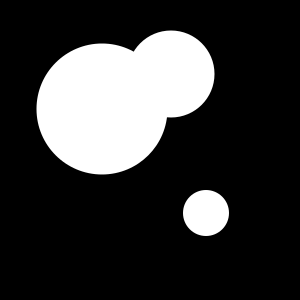rectangle: (37, 44, 168, 174), (127, 31, 214, 118), (183, 190, 229, 236)
